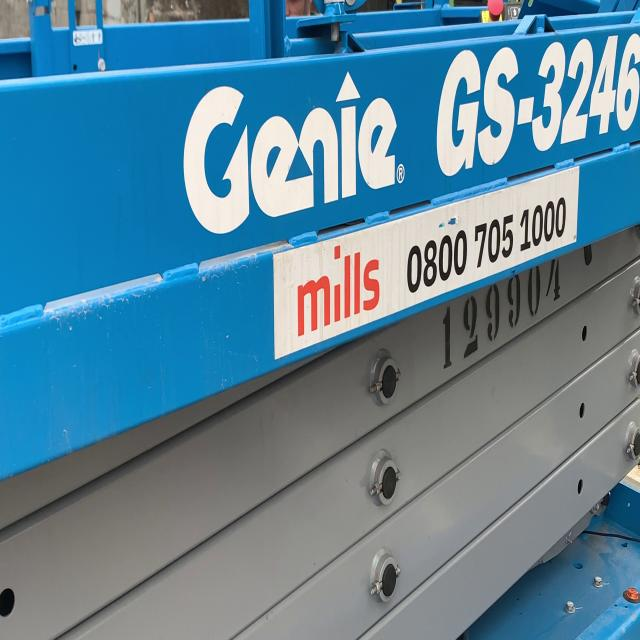Adesivo Longo: (270, 161, 583, 364)
